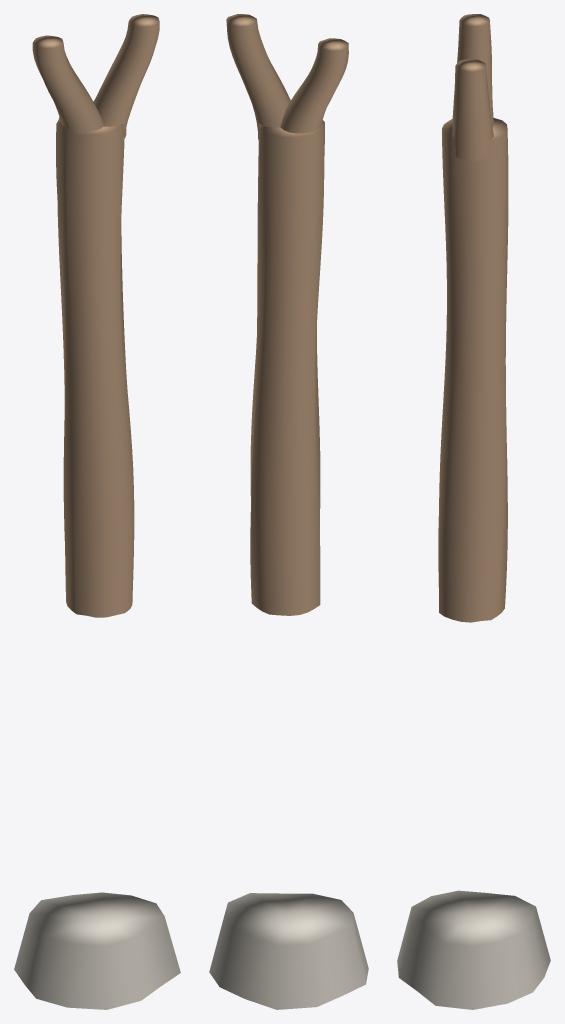
File: bagana-f1-3x11x3-v2.glb
3 renders of one model, left to right at view 1: azimuth 30°, elevation 25°; view 2: azimuth 150°, elevation 25°; view 3: azimuth 270°, elevation 25°, orthographic.
Visible parts, largest first — view 1: bagana_wood, bagana_stone; view 2: bagana_wood, bagana_stone; view 3: bagana_wood, bagana_stone.
Part boxes in pixels (<box>): bagana_wood: <box>32,14,159,617</box>; bagana_stone: <box>14,892,180,1009</box>; bagana_wood: <box>226,14,348,615</box>; bagana_stone: <box>209,893,368,1009</box>; bagana_wood: <box>438,14,508,622</box>; bagana_stone: <box>397,890,550,1009</box>.
Size of the model in its own units: 0.657 by 4.12 by 0.6169.
